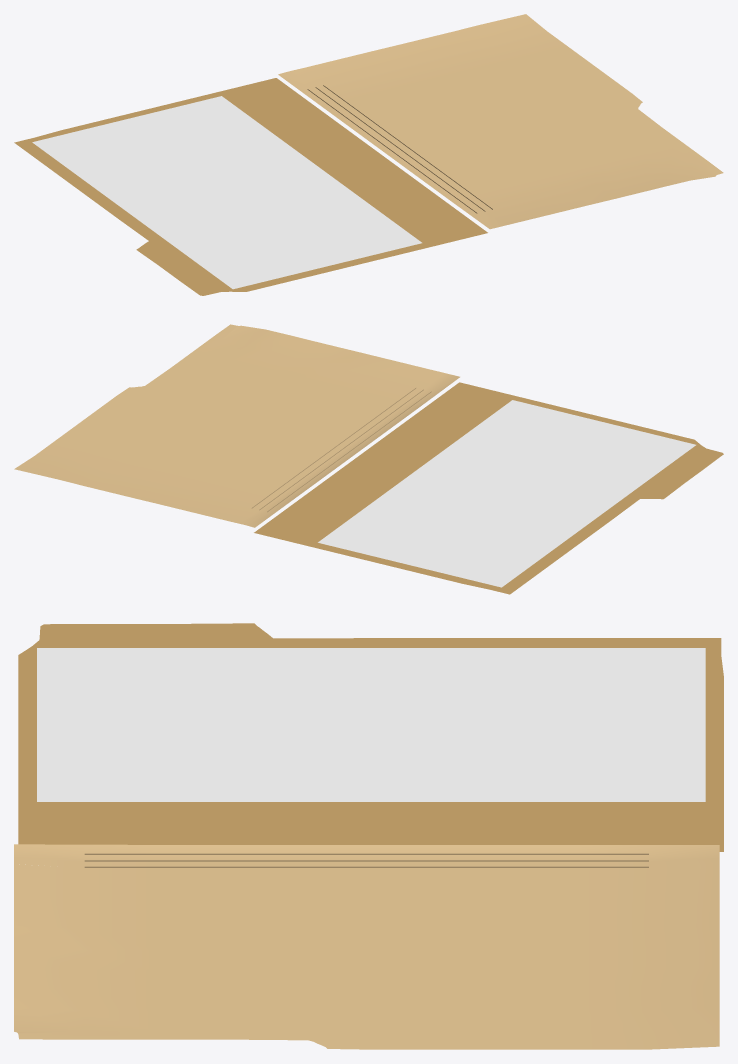
File: mission files.fbx
3 views of the same model, one above another, from view 1: azimuth 30°, elevation 25°; view 2: azimuth 150°, elevation 25°; view 3: azimuth 270°, elevation 25° (orthographic). The views are drawn at different scales.
Parts seen in each view (by area): view 1: top, paper, bottom; view 2: top, paper, bottom; view 3: top, paper, bottom.
Boxes of the visible parts, box(x1,y1,x2,y2) form: top: box(278, 14, 723, 229); paper: box(32, 96, 421, 289); bottom: box(14, 78, 487, 295); top: box(14, 324, 459, 527); paper: box(318, 400, 695, 587); bottom: box(254, 382, 723, 594); top: box(14, 844, 719, 1049); paper: box(37, 648, 705, 801); bottom: box(18, 623, 723, 851).
Size of the model in its own units: 43.27 by 0.3567 by 30.19.
